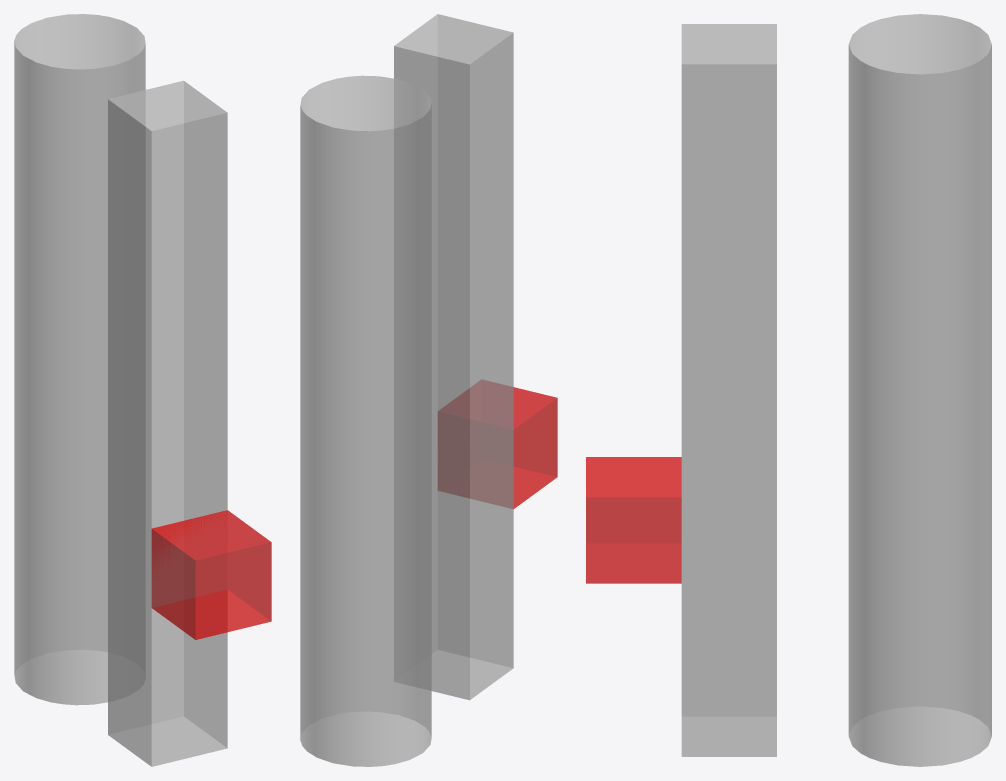
The model's file is fence-plugin.obj.
3 views of the same model, side by side, from view 1: azimuth 30°, elevation 25°; view 2: azimuth 150°, elevation 25°; view 3: azimuth 270°, elevation 25° (orthographic). The views are drawn at different scales.
Parts seen in each view (by area): view 1: Fencepart21, Fencepart11, Redpart1; view 2: Fencepart21, Fencepart11, Redpart1; view 3: Fencepart21, Fencepart11, Redpart1.
Boxes of the visible parts, x1,y1,x2,y2 form: Fencepart21: (14, 14, 145, 705); Fencepart11: (108, 80, 227, 766); Redpart1: (151, 510, 271, 639); Fencepart21: (300, 75, 431, 766); Fencepart11: (394, 14, 513, 700); Redpart1: (438, 380, 557, 508); Fencepart21: (848, 14, 991, 766); Fencepart11: (681, 24, 776, 756); Redpart1: (586, 457, 681, 583).
Size of the model in its own units: 0.75 by 4 by 2.12.
